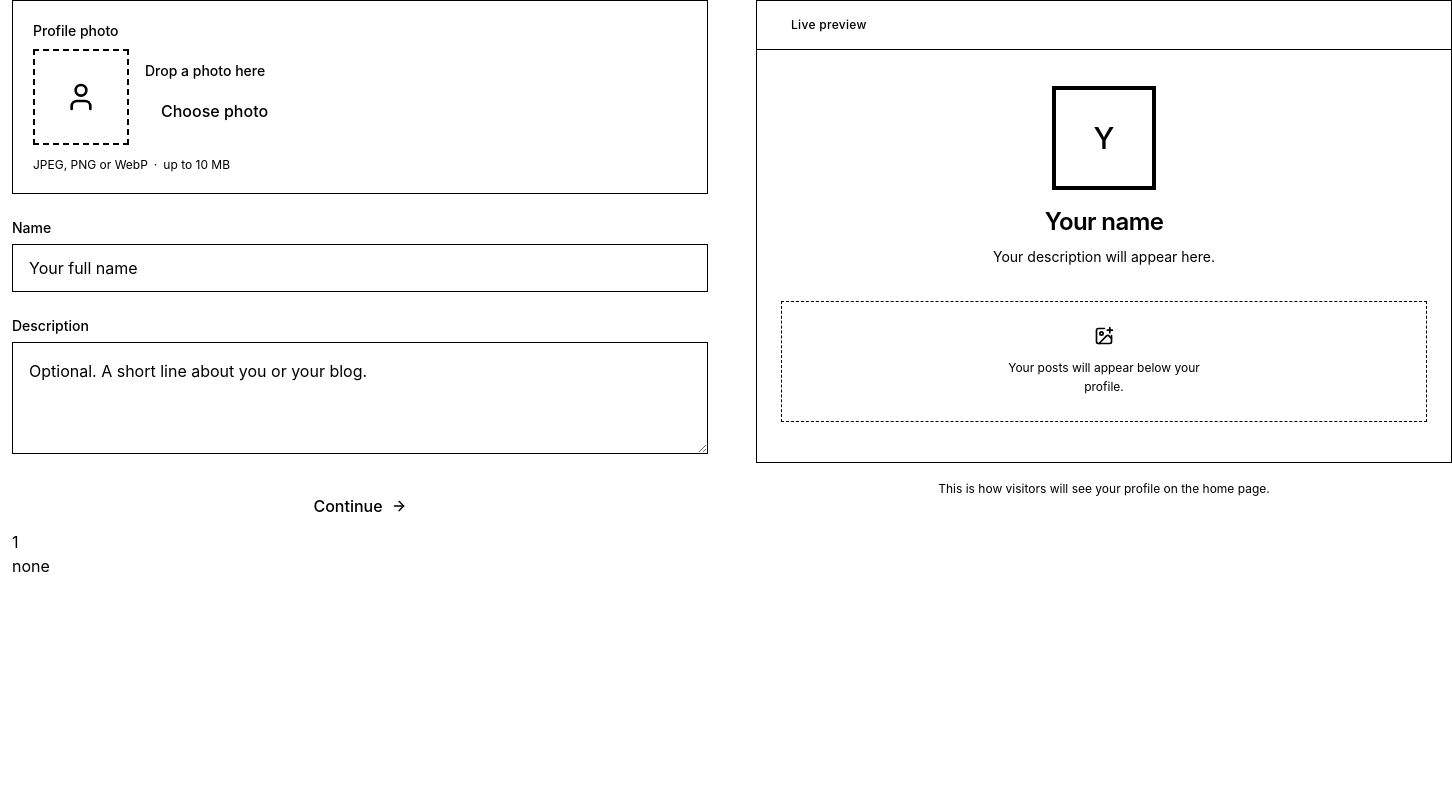
Scenario: ProfileStep › Given a pending save, should disable the button, the fields and the photo picker
This screenshot has width=1452, height=810.
Type "Grace" into the field labelled "Name" at (360, 268), box [12,244,708,292]
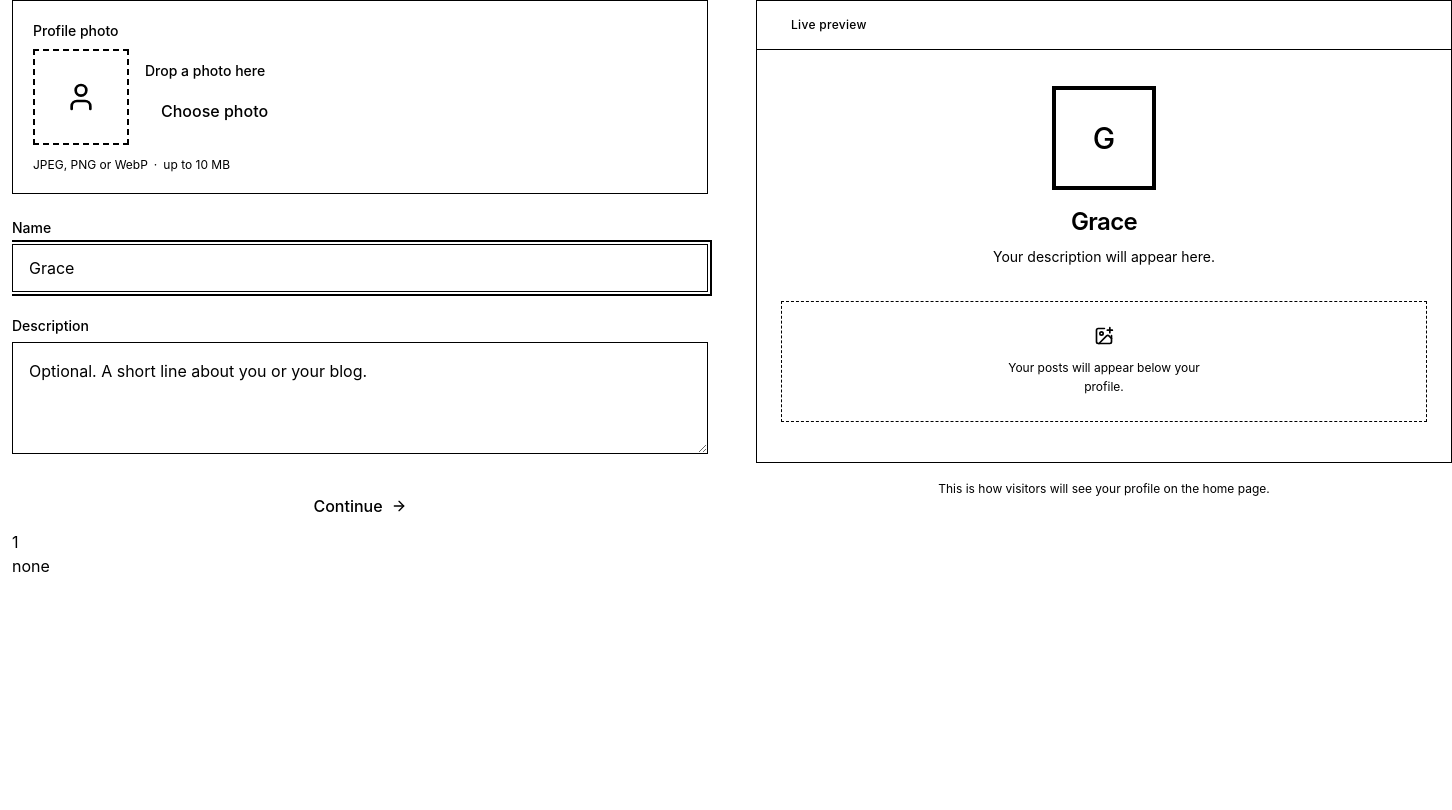
Click the button "Continue" at (360, 506), box [12,482,708,530]
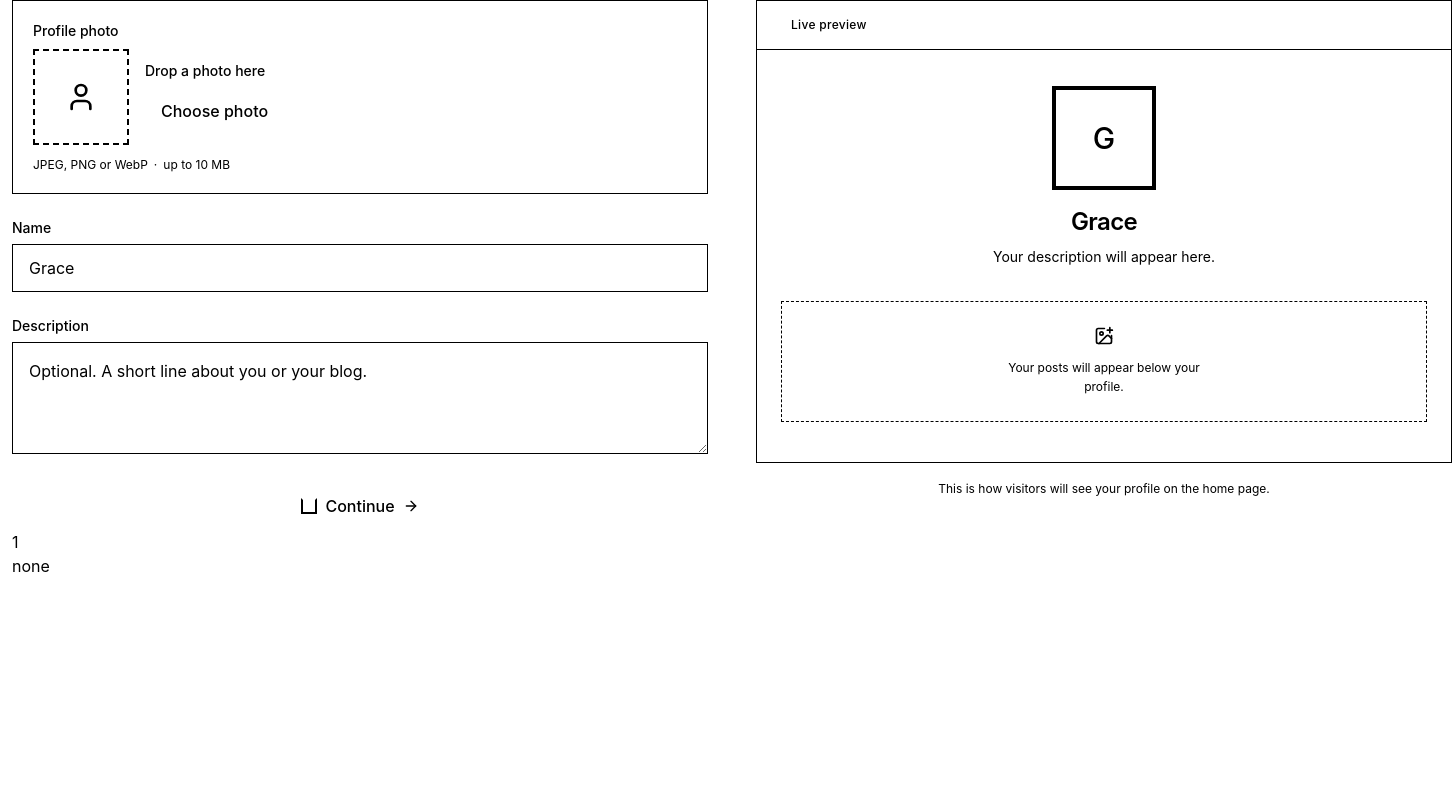
Expected: the field labelled "Name" is disabled, [12,244,708,292]
Now the button "Continue" is disabled, box [12,482,708,530]
